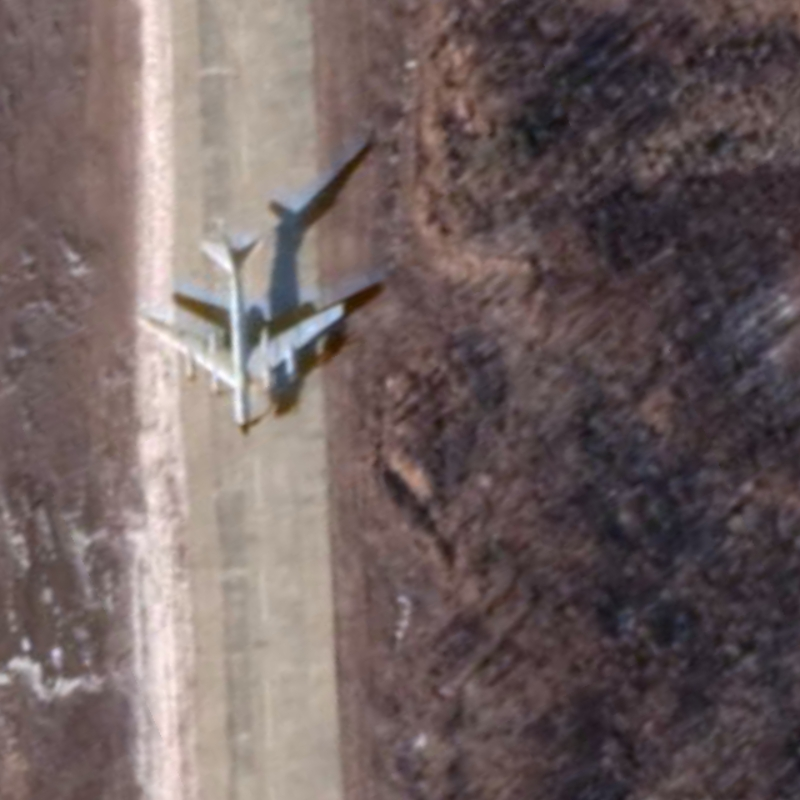A17: (128, 228, 349, 440)
